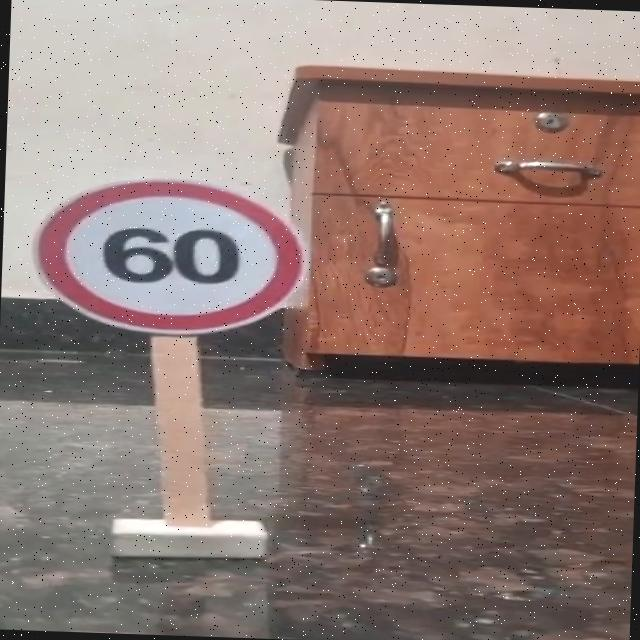Speed60: (25, 169, 316, 343)
